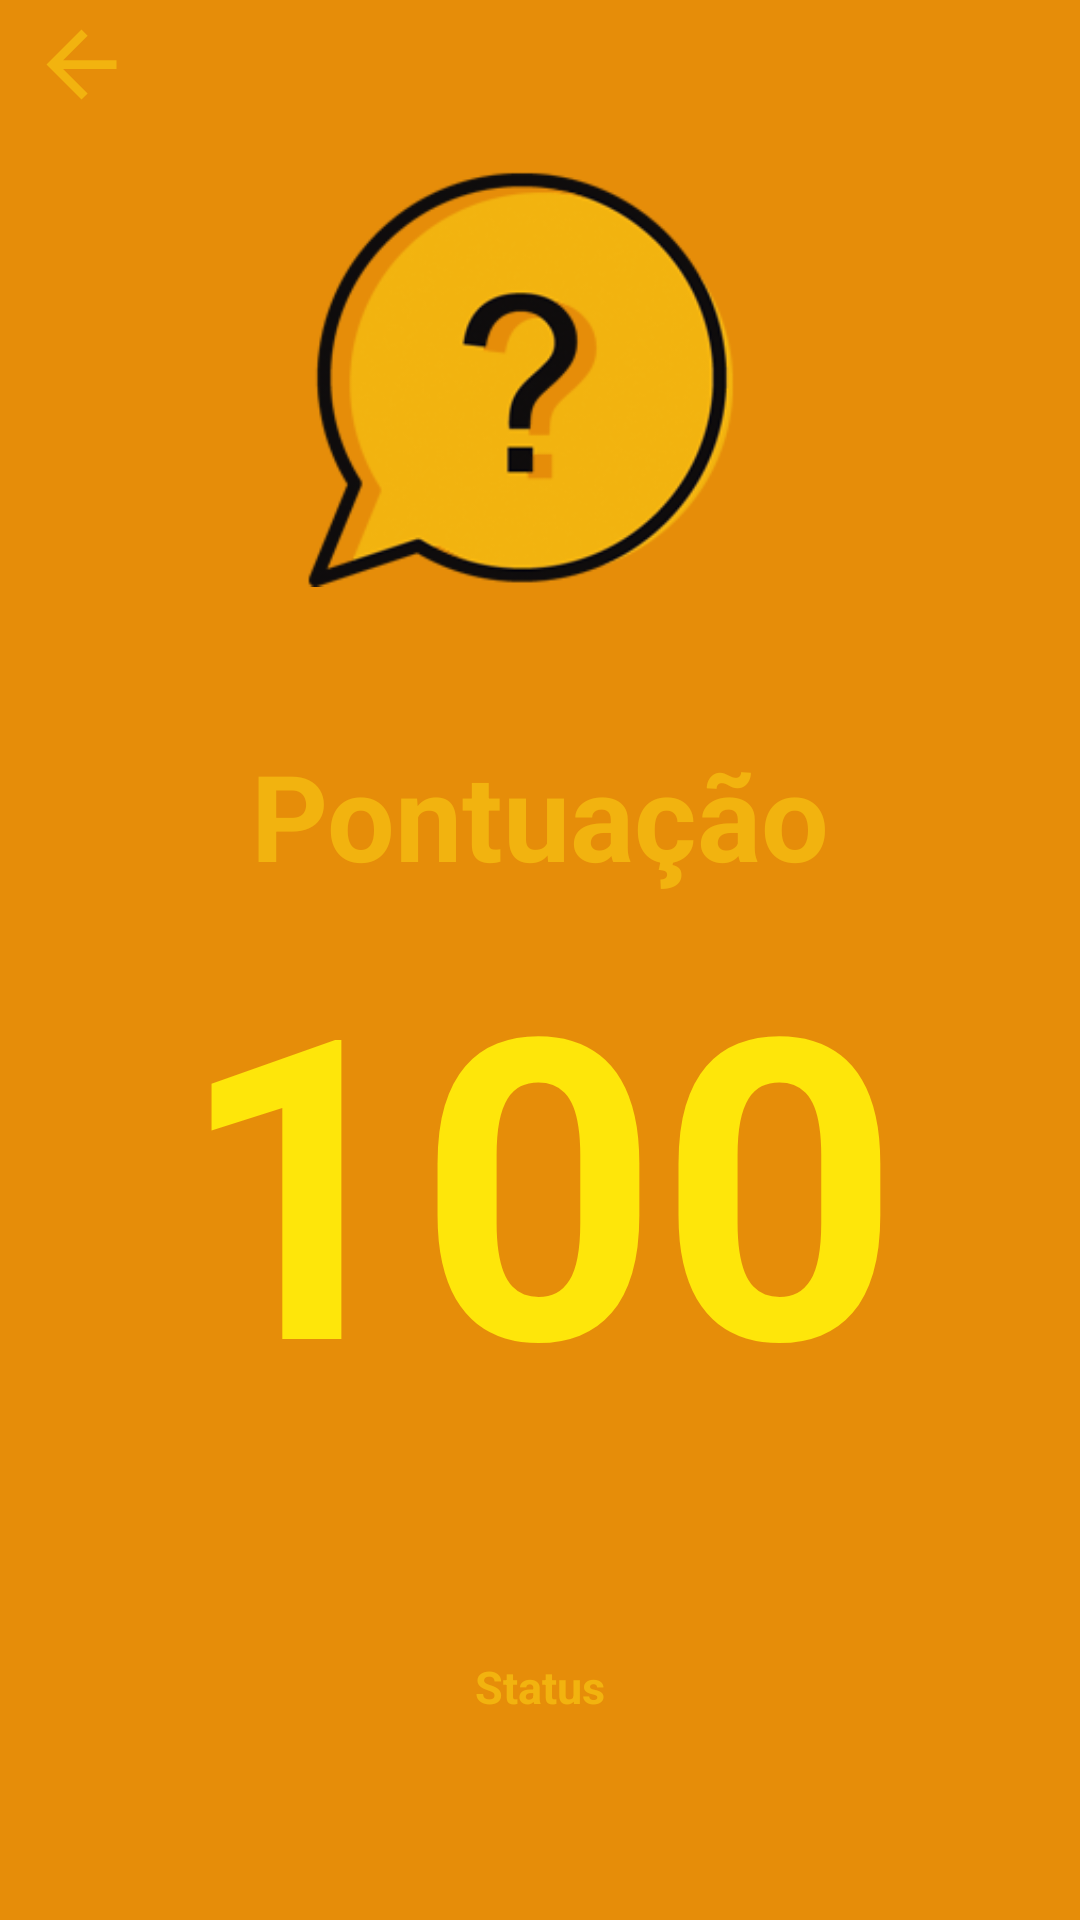

Screen size 1080 × 1920. Icon name, then its box in pixels as (x1, y1, x2, y2):
back: (47, 30, 116, 99)
